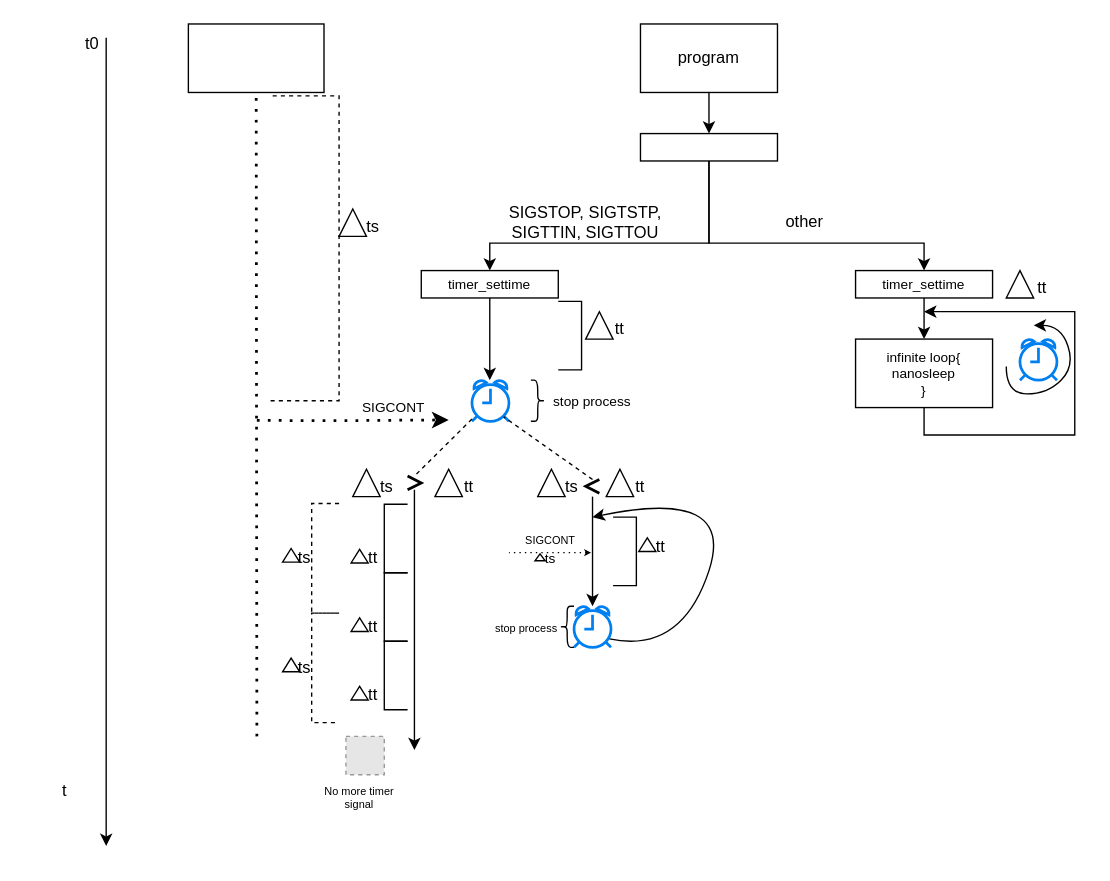
Image size: 1110x881. Some labels were removed from this diagram. Grey dashed boxes stand in for pictures. Here are the shapes that lost their labels. From the top down, the centre of each, then its label:
At (255,57): "bash shell".
At (708,146): "time_create".
